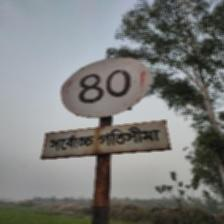Speed-limit: (42, 54, 167, 160)
